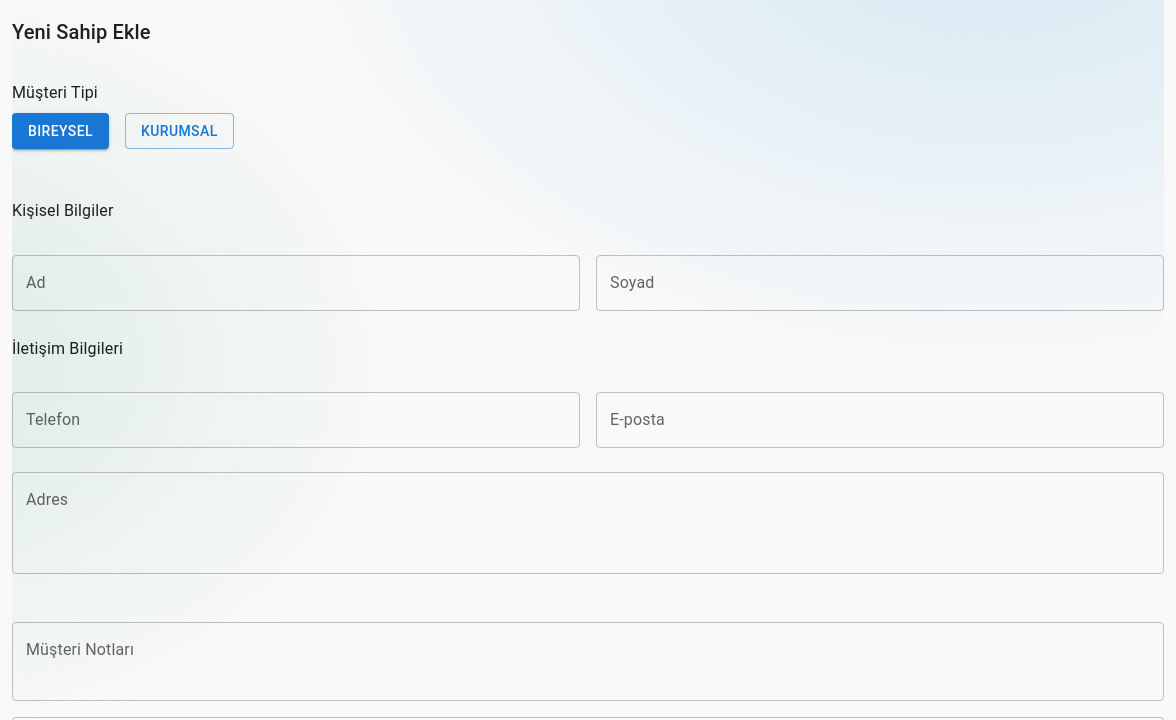
Test: OwnerForm › shows corporate fields when Kurumsal is selected
Click the button "Kurumsal" at [179, 131], box [125,113,234,149]
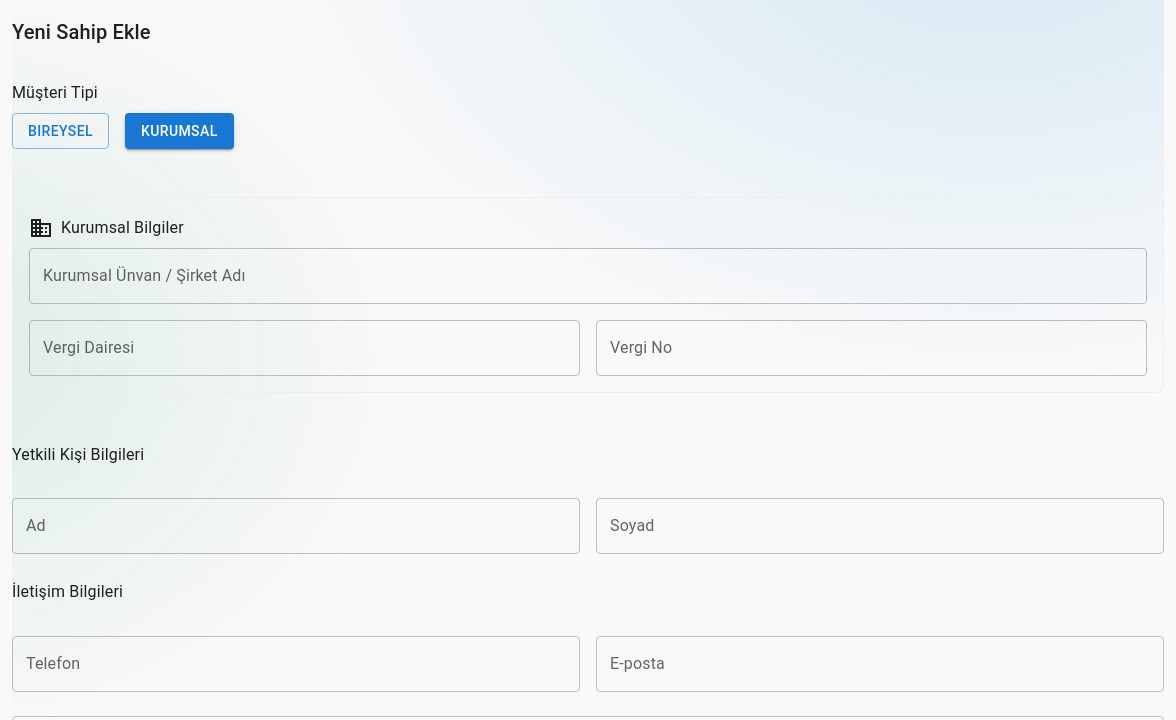
Result: the field labelled "Kurumsal Ünvan / Şirket Adı" is shown at [29,248,1147,304]
Result: the field labelled "Vergi No" is shown at [596,320,1147,376]
Result: the field labelled "Vergi Dairesi" is shown at [29,320,580,376]
